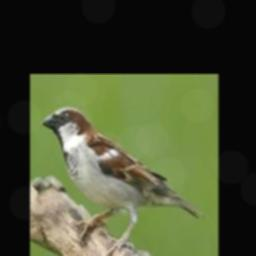Sparrow: (42, 106, 207, 256)
